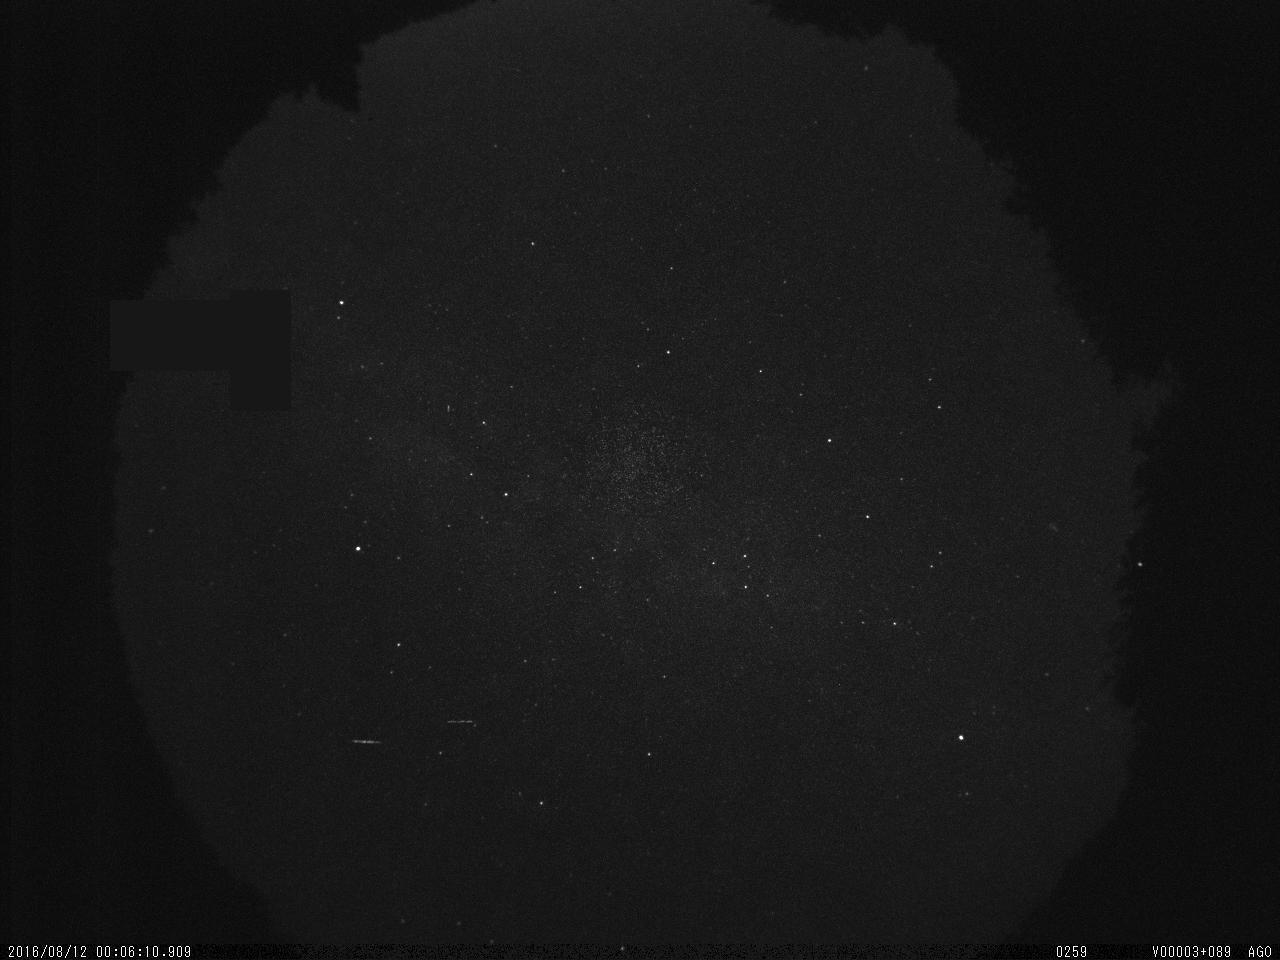satelite: (342, 728, 389, 753), (440, 711, 486, 733)
